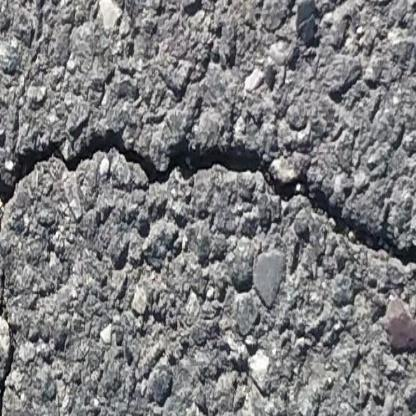Cracks: (0, 121, 416, 278), (0, 260, 20, 416)
